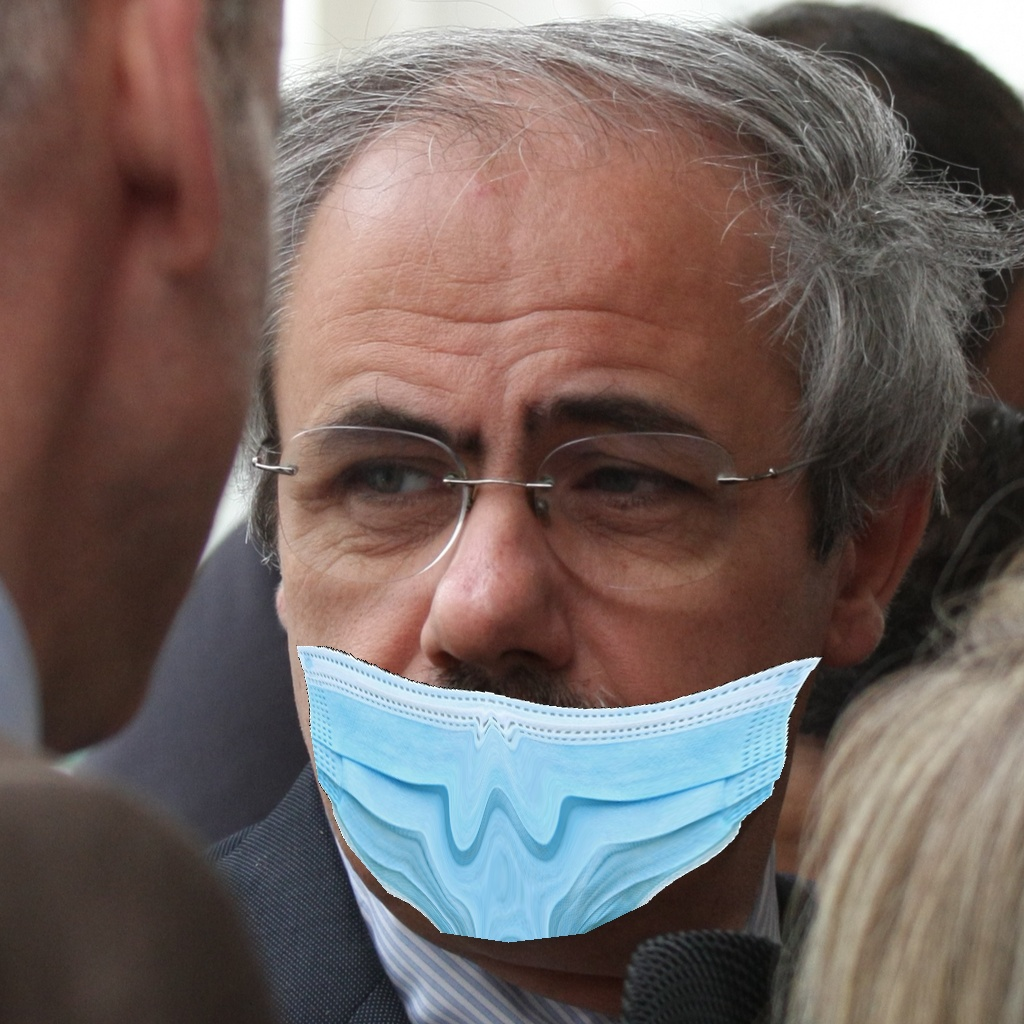mascarilla_mal_puesta: (236, 368, 848, 988)
